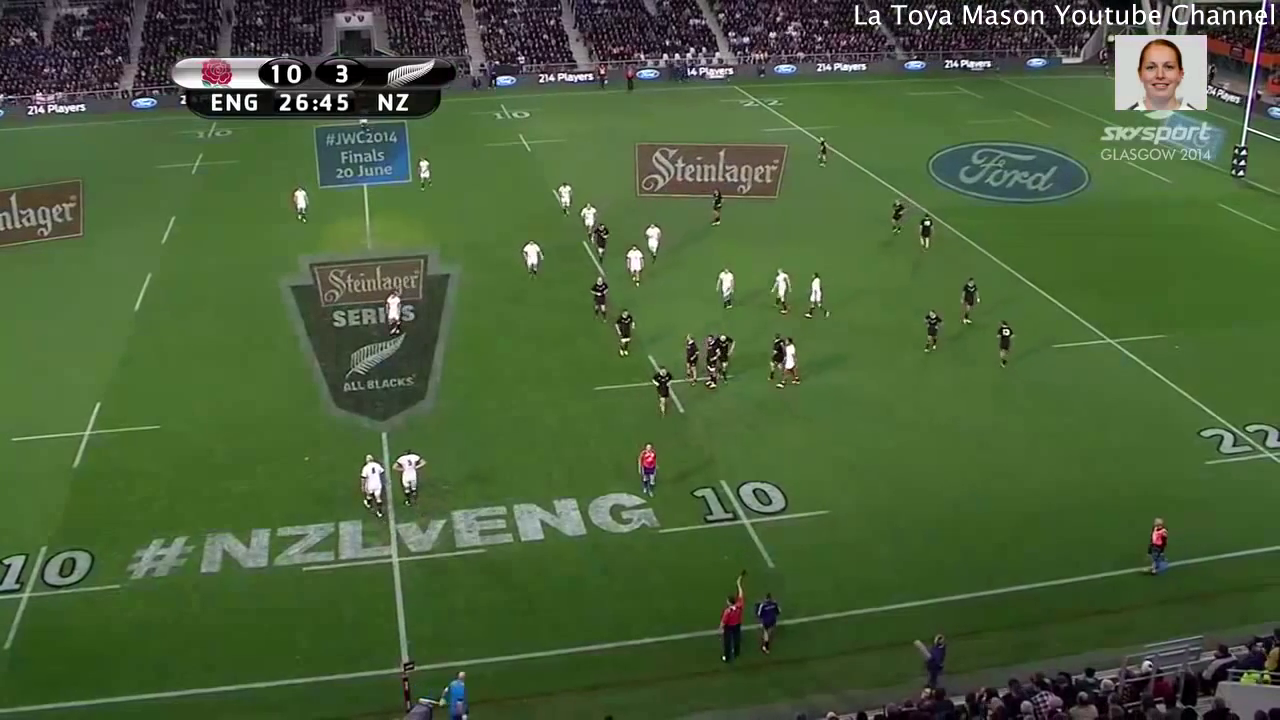10_metre: (646, 472, 840, 581), (1, 530, 123, 659), (1, 395, 163, 474), (591, 347, 738, 422), (153, 149, 241, 179), (483, 130, 567, 155), (465, 98, 552, 121), (170, 118, 245, 142)
player: (353, 452, 389, 528), (801, 268, 841, 328), (386, 444, 424, 507), (773, 329, 808, 396), (765, 264, 800, 321), (991, 319, 1026, 374), (707, 263, 746, 312), (608, 299, 637, 363), (515, 236, 550, 288), (919, 301, 950, 358), (760, 330, 793, 380), (634, 435, 659, 501), (583, 273, 614, 326), (679, 329, 703, 397), (648, 360, 674, 422), (958, 272, 983, 334), (619, 238, 646, 292), (702, 331, 724, 394), (914, 208, 939, 258), (550, 181, 580, 221), (640, 219, 664, 269), (713, 330, 735, 381), (289, 182, 313, 228), (412, 152, 436, 196), (706, 186, 729, 231), (887, 194, 910, 237), (592, 217, 611, 267), (579, 203, 598, 241), (814, 131, 829, 172)
post: (1223, 63, 1280, 188)
